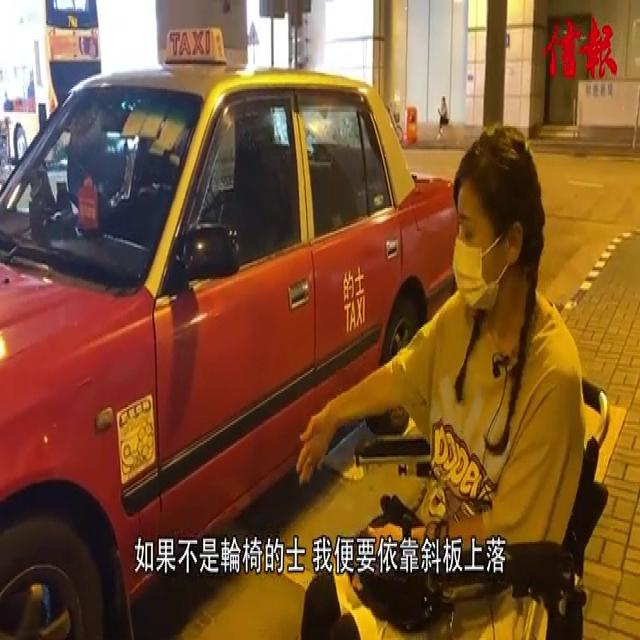wheelchairs: (350, 370, 610, 640)
